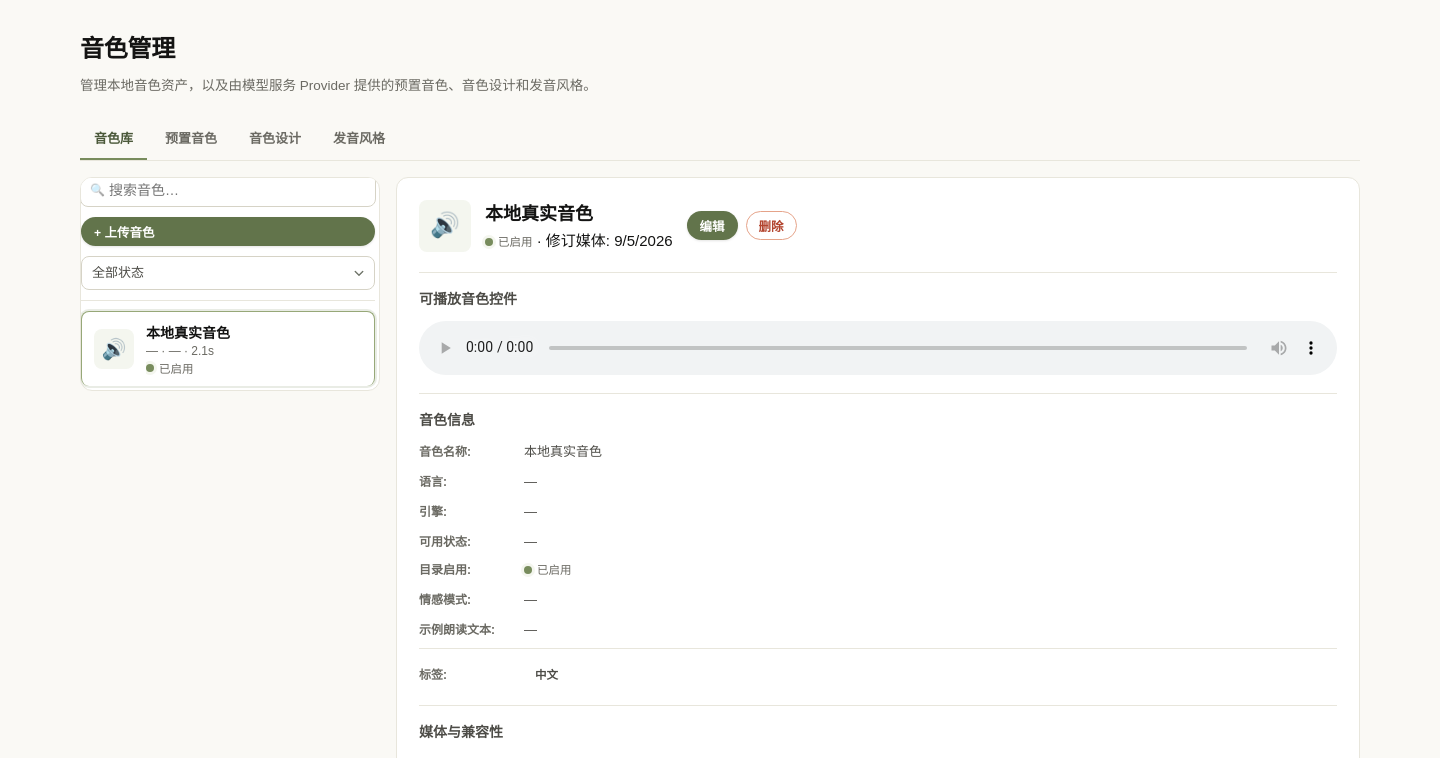
Scenario: VoiceManagementPage provider information architecture › derives preset Provider choices only from enabled audio/TTS service capabilities
The width and height of the screenshot is (1440, 758).
Click the tab "预置音色" at (191, 139), box [151,118,231,160]
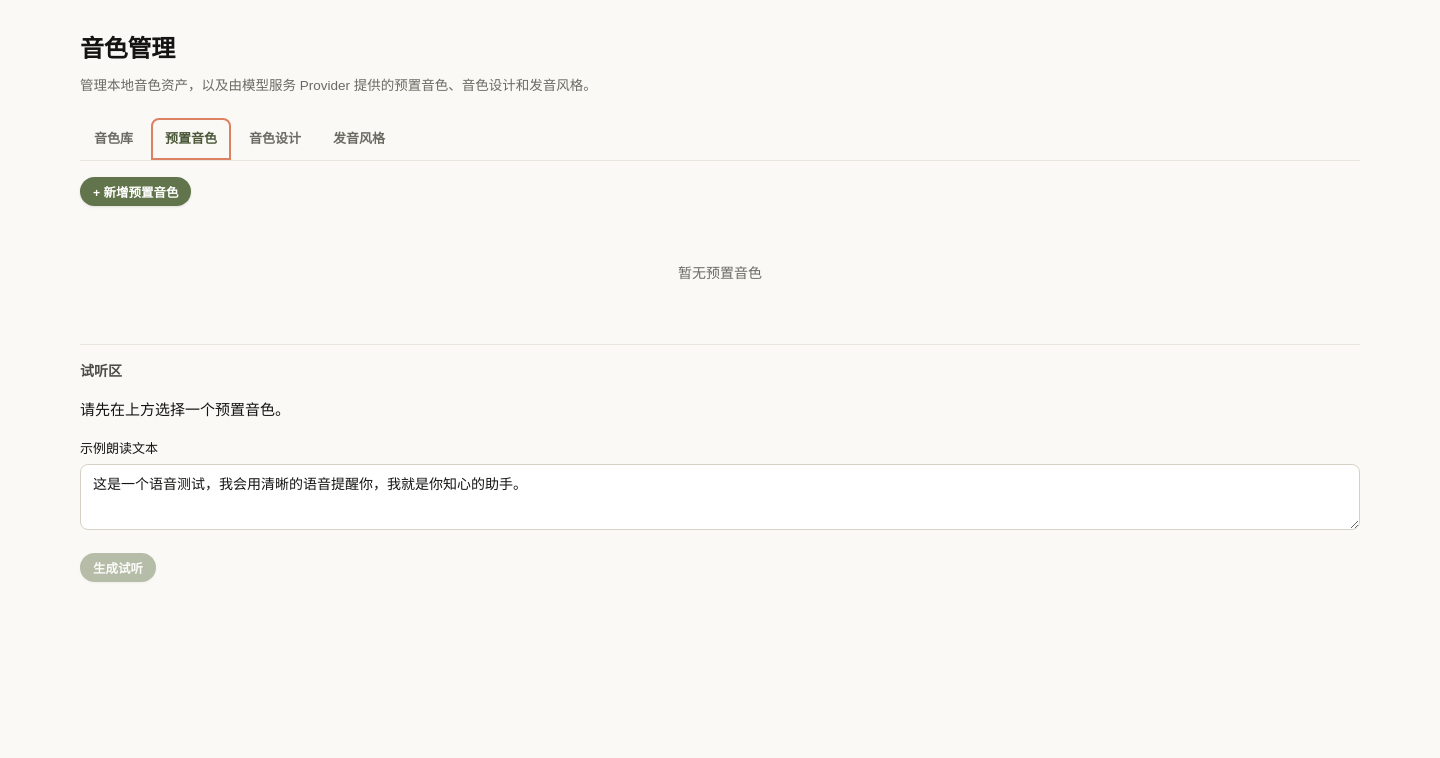
Click the button "+ 新增预置音色" at (136, 191), box [80,177,191,206]
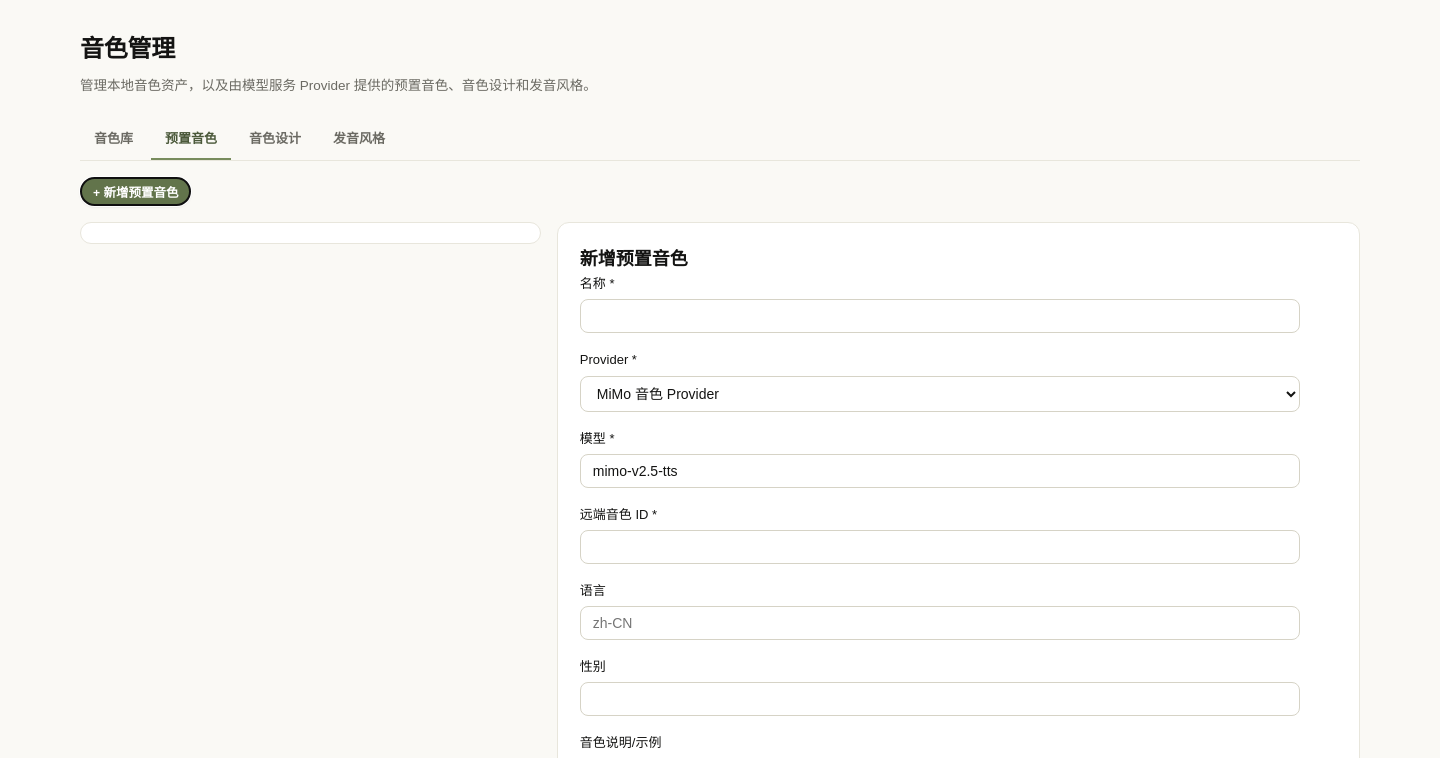
Now the field labelled "模型 *" holds "mimo-v2.5-tts", box [580,454,1300,488]
